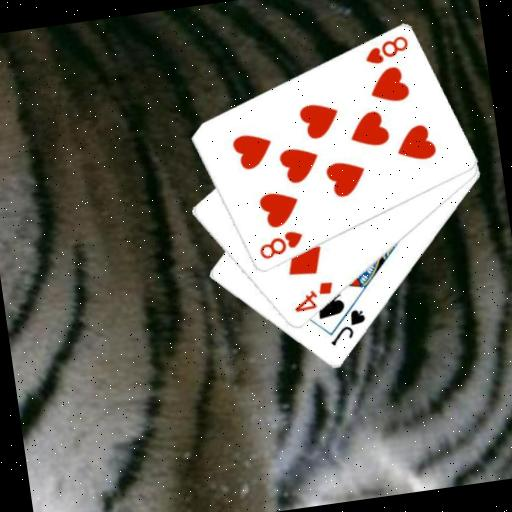4D: (288, 278, 338, 316)
8H: (253, 226, 307, 263), (359, 32, 412, 68)
JS: (324, 305, 371, 349)
